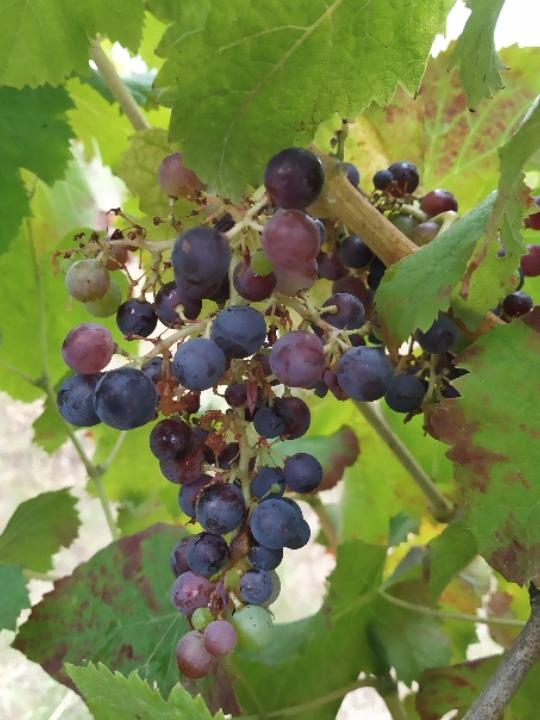grape: (40, 148, 540, 684)
